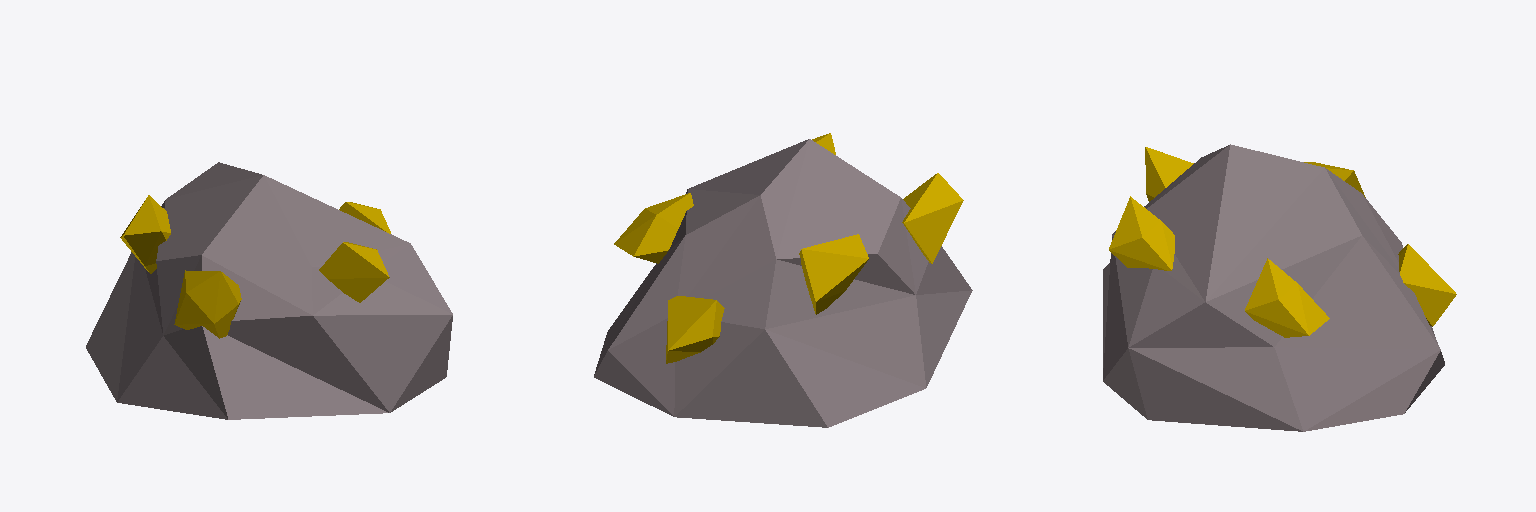
The model's file is gold_rock.obj.
3 views of the same model, side by side, from view 1: azimuth 30°, elevation 25°; view 2: azimuth 150°, elevation 25°; view 3: azimuth 270°, elevation 25° (orthographic).
Visible parts, largest first — view 1: Cube.008, Cube.005, Cube.004, Cube.001, Cube.002; view 2: Cube.008, Cube.001, Cube.005, Cube.003, Cube.002; view 3: Cube.008, Cube.002, Cube.004, Cube.003, Cube.005.
Part boxes in pixels (x1,y1,x2,y2): Cube.008: (86, 162, 452, 419); Cube.005: (174, 270, 241, 338); Cube.004: (319, 242, 389, 302); Cube.001: (120, 195, 170, 273); Cube.002: (339, 202, 390, 233); Cube.008: (594, 139, 972, 427); Cube.001: (799, 234, 868, 314); Cube.005: (902, 173, 963, 263); Cube.003: (666, 296, 724, 363); Cube.002: (614, 193, 693, 263); Cube.008: (1103, 144, 1444, 431); Cube.002: (1245, 258, 1329, 337); Cube.004: (1109, 196, 1174, 270); Cube.003: (1398, 244, 1456, 326); Cube.005: (1145, 147, 1193, 201).
Size of the model in its own units: 1.87 by 1.24 by 1.94.